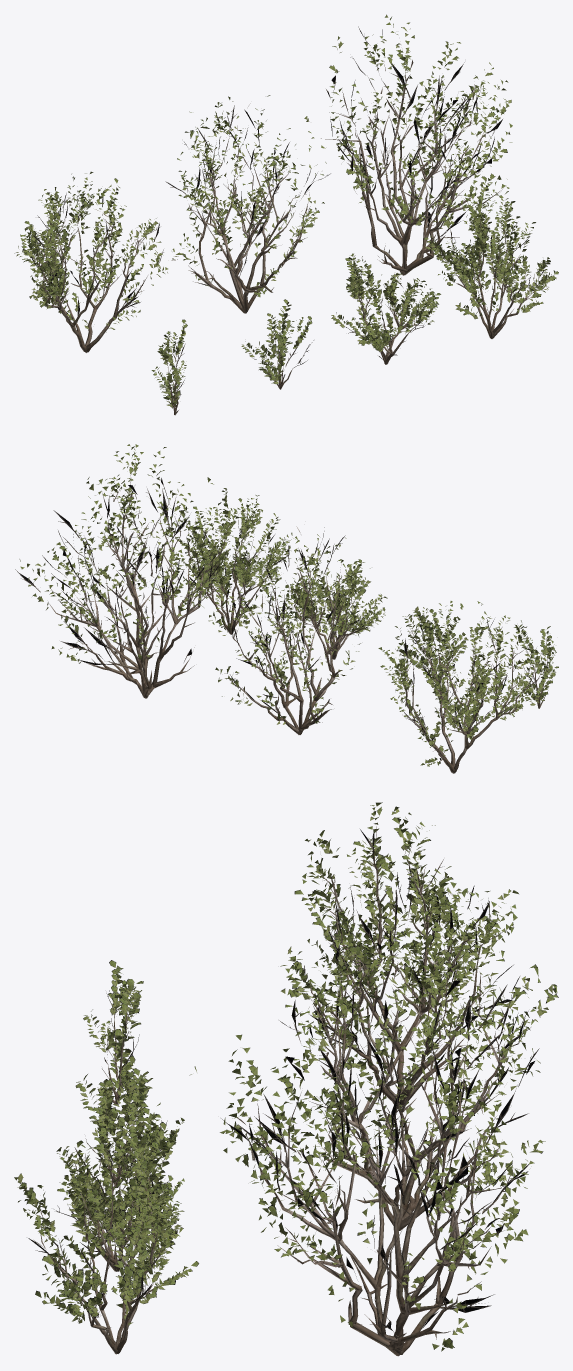
File: searsia_lucida.glb
3 renders of one model, top to bottom at view 1: azimuth 30°, elevation 25°; view 2: azimuth 150°, elevation 25°; view 3: azimuth 270°, elevation 25°, orthographic. The views are drawn at different scales.
Visible parts, largest first — view 1: searsia_lucida_a_LOD0, searsia_lucida_c_LOD0, searsia_lucida_b_LOD0, searsia_lucida_d_LOD0, searsia_lucida_e_LOD0, searsia_lucida_f_LOD0, searsia_lucida_g_LOD0; view 2: searsia_lucida_a_LOD0, searsia_lucida_c_LOD0, searsia_lucida_b_LOD0, searsia_lucida_d_LOD0, searsia_lucida_e_LOD0, searsia_lucida_f_LOD0, searsia_lucida_g_LOD0; view 3: searsia_lucida_a_LOD0, searsia_lucida_c_LOD0, searsia_lucida_b_LOD0, searsia_lucida_d_LOD0, searsia_lucida_e_LOD0, searsia_lucida_g_LOD0, searsia_lucida_f_LOD0.
Boxes of the visible parts, x1,y1,x2,y2 form: searsia_lucida_a_LOD0: [304, 14, 512, 275]; searsia_lucida_c_LOD0: [14, 171, 190, 352]; searsia_lucida_b_LOD0: [165, 95, 330, 313]; searsia_lucida_d_LOD0: [424, 176, 558, 338]; searsia_lucida_e_LOD0: [331, 253, 440, 364]; searsia_lucida_f_LOD0: [241, 299, 313, 389]; searsia_lucida_g_LOD0: [151, 319, 187, 415]; searsia_lucida_a_LOD0: [15, 444, 264, 698]; searsia_lucida_c_LOD0: [378, 601, 555, 773]; searsia_lucida_b_LOD0: [208, 526, 372, 734]; searsia_lucida_d_LOD0: [169, 488, 295, 634]; searsia_lucida_e_LOD0: [279, 559, 387, 659]; searsia_lucida_f_LOD0: [402, 606, 468, 682]; searsia_lucida_g_LOD0: [514, 624, 558, 708]; searsia_lucida_a_LOD0: [189, 954, 545, 1356]; searsia_lucida_c_LOD0: [281, 802, 518, 1108]; searsia_lucida_b_LOD0: [279, 872, 558, 1230]; searsia_lucida_d_LOD0: [14, 1101, 198, 1354]; searsia_lucida_e_LOD0: [54, 1064, 184, 1271]; searsia_lucida_g_LOD0: [83, 960, 143, 1104]; searsia_lucida_f_LOD0: [75, 1071, 167, 1187].
Size of the model in its own units: 4.75 by 2.28 by 2.8.
Materials: 2 (2 with a texture image).
